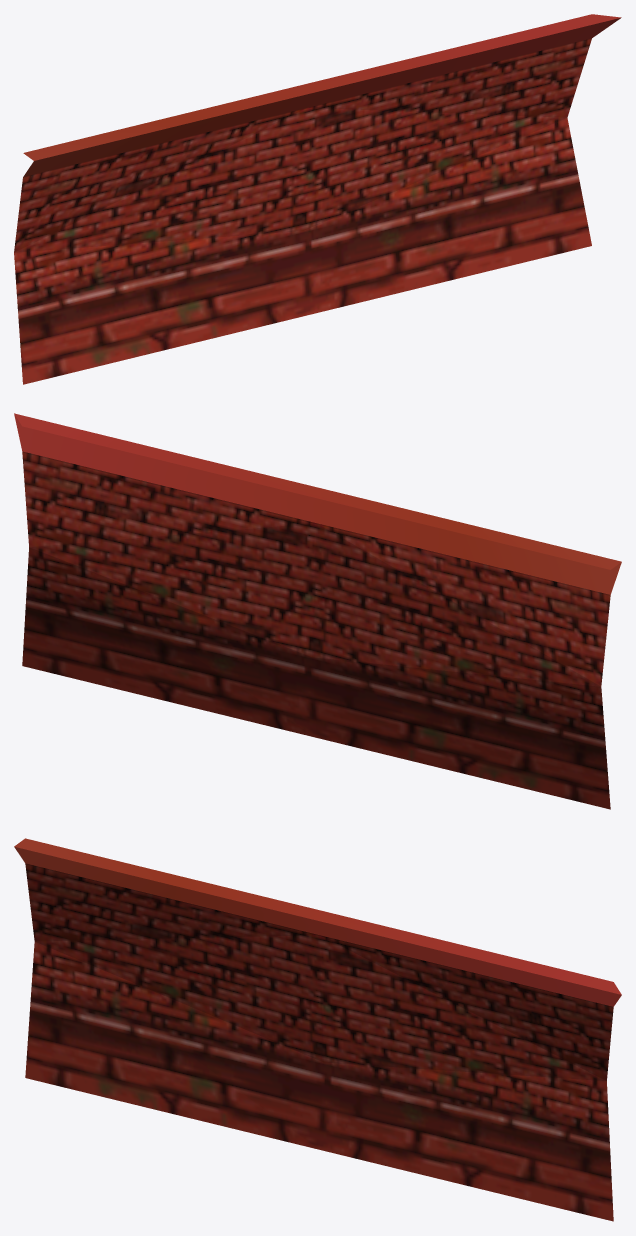
The model's file is W_A2r_xxxx [Ziegel2]_1161.glb.
3 views of the same model, one above another, from view 1: azimuth 30°, elevation 25°; view 2: azimuth 150°, elevation 25°; view 3: azimuth 330°, elevation 25° (orthographic). The views are drawn at different scales.
Visible parts, largest first — view 1: polySurfaceShape787, polySurfaceShape1065; view 2: polySurfaceShape787, polySurfaceShape1065; view 3: polySurfaceShape787, polySurfaceShape1065.
Boxes of the visible parts, x1,y1,x2,y2 form: polySurfaceShape787: (14, 38, 591, 384); polySurfaceShape1065: (23, 14, 621, 176); polySurfaceShape787: (22, 451, 610, 809); polySurfaceShape1065: (14, 413, 621, 594); polySurfaceShape787: (25, 863, 613, 1221); polySurfaceShape1065: (14, 838, 621, 1006).
Bounding box in the file's own units: 1.03 × 0.3891 × 0.0607.
Materials: 2 (2 with a texture image).
